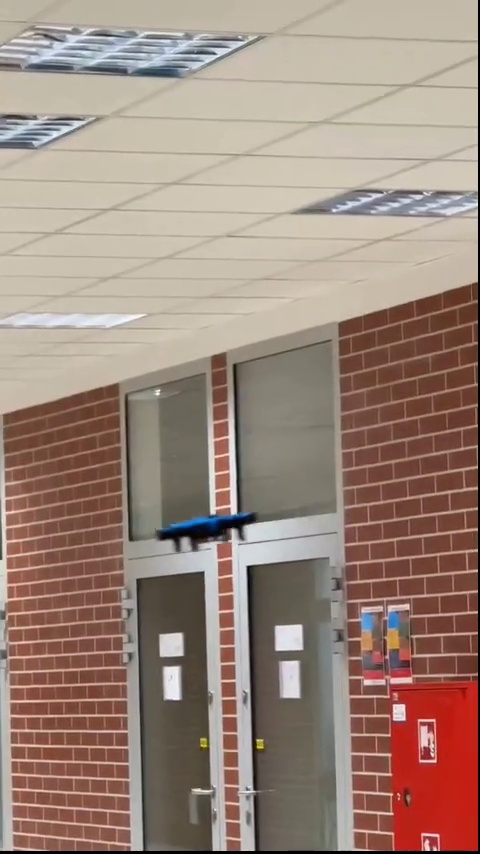drone: (149, 512, 256, 547)
